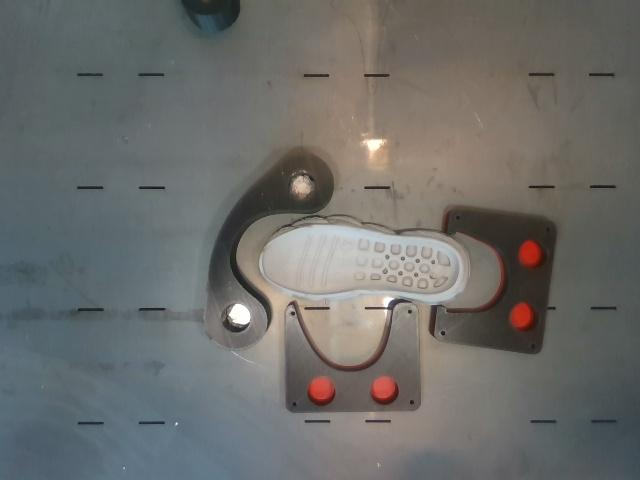shoes: (260, 225, 462, 296)
